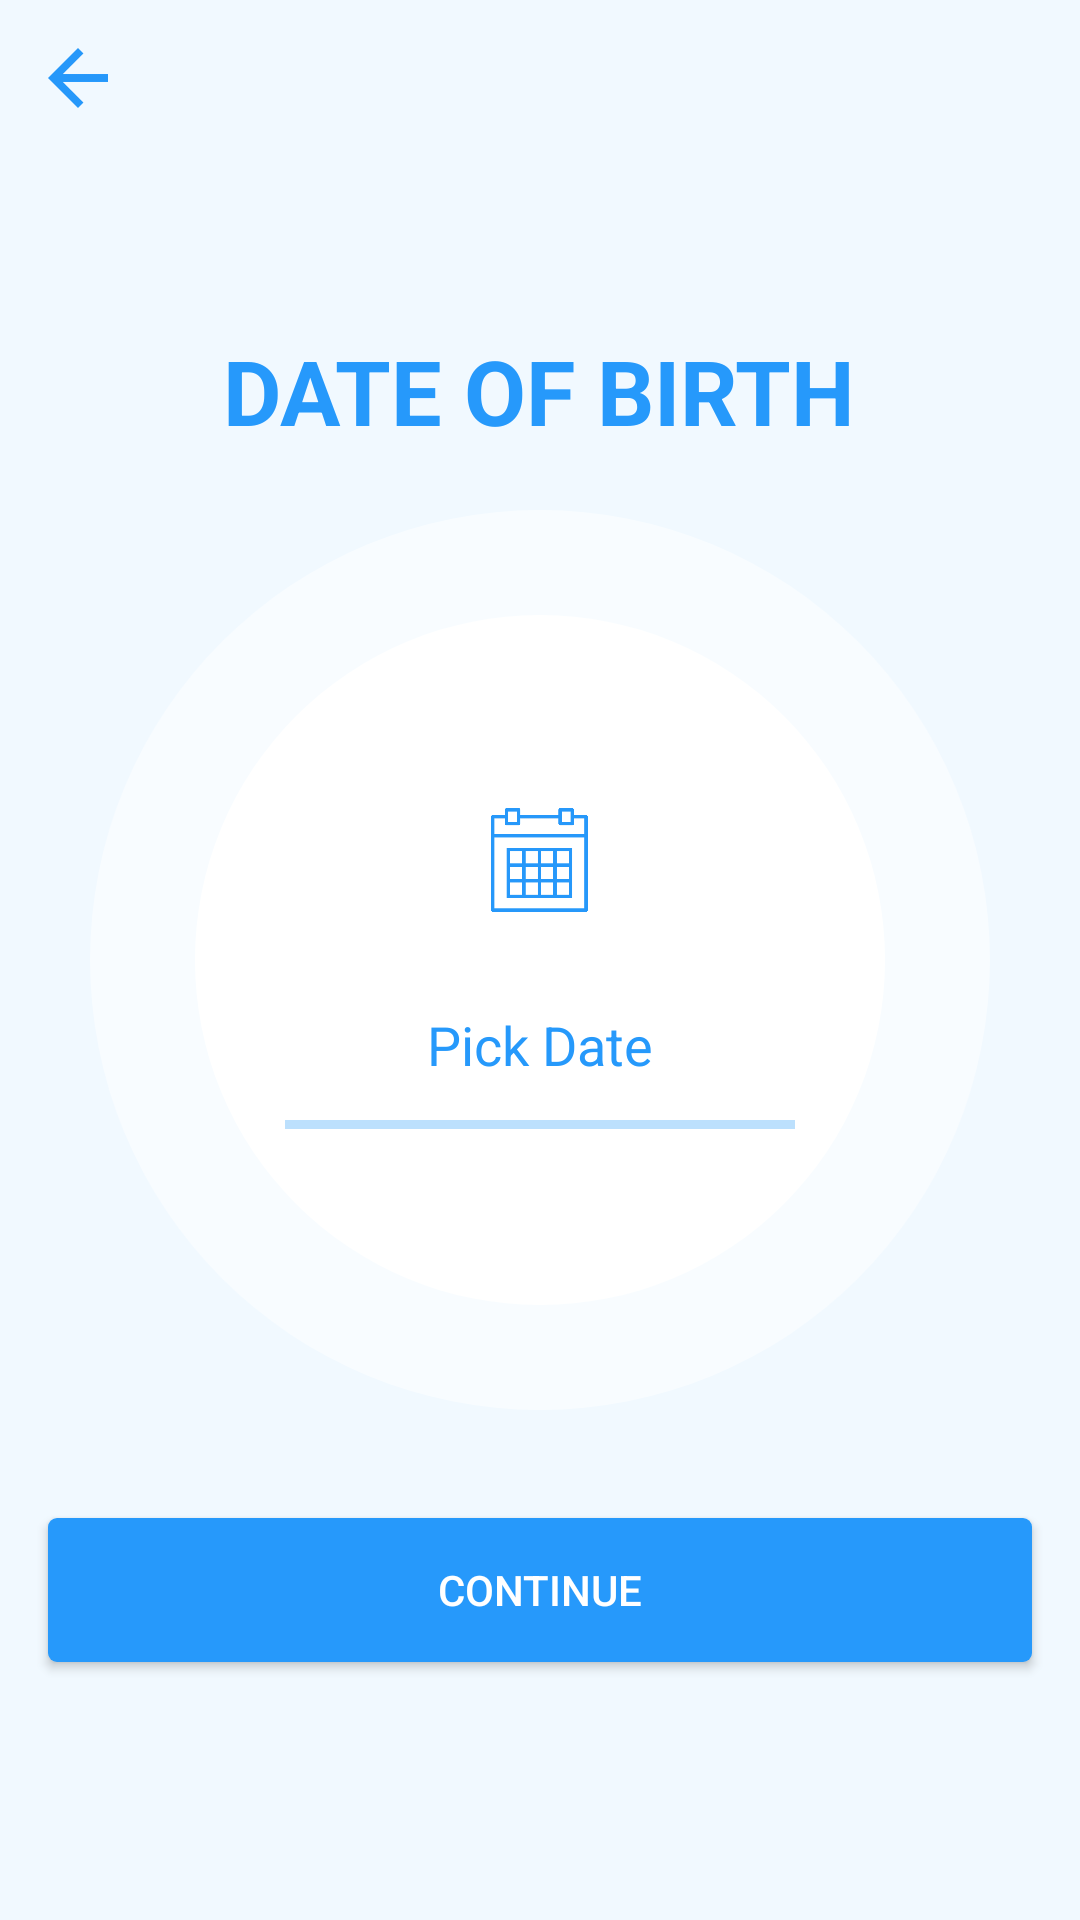

Locate icon controls on the screen. Image size 1080 × 1920, boxes as {"left": x1, "top": y1, "right": x2, "bottom": y2}.
back: {"left": 48, "top": 48, "right": 108, "bottom": 108}
